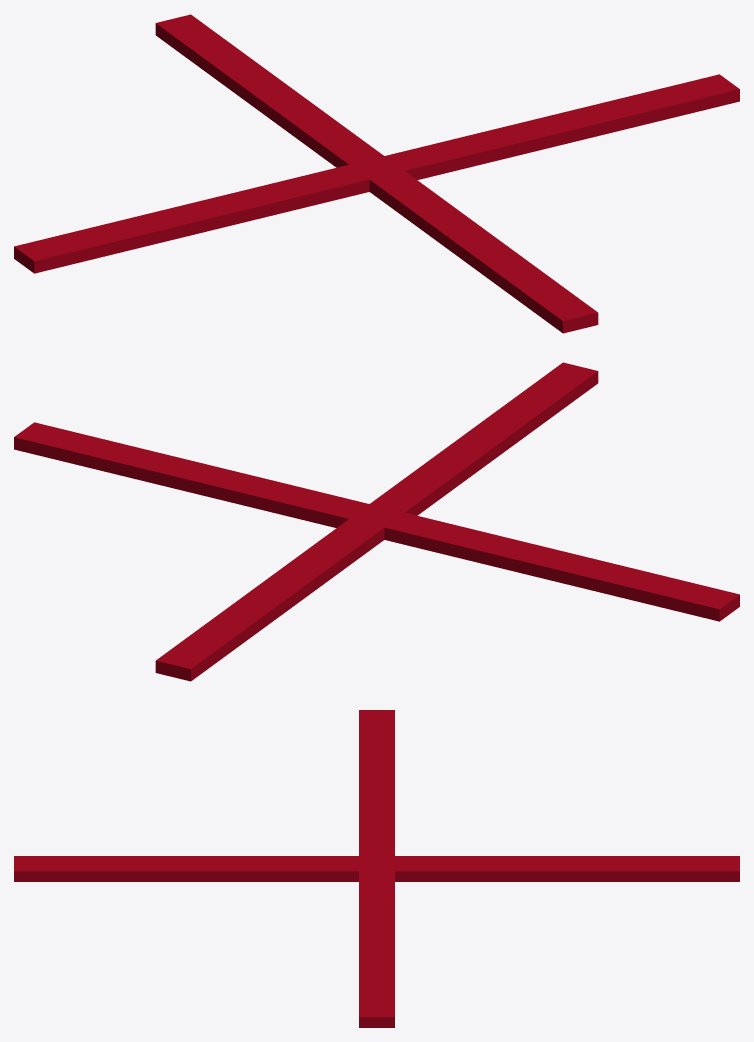
File: HelicopterMainBlades.glb
The picture shows the model from 3 angles, top to bottom: view 1: azimuth 30°, elevation 25°; view 2: azimuth 150°, elevation 25°; view 3: azimuth 270°, elevation 25°; orthographic projection. The views are drawn at different scales.
Visible parts, largest first — view 1: MainBlades; view 2: MainBlades; view 3: MainBlades.
Part boxes in pixels (bbox=[...]): MainBlades: bbox=[14, 14, 739, 333]; MainBlades: bbox=[14, 362, 739, 681]; MainBlades: bbox=[14, 710, 739, 1027].
Size of the model in its own units: 11.22 by 0.1871 by 11.22.
